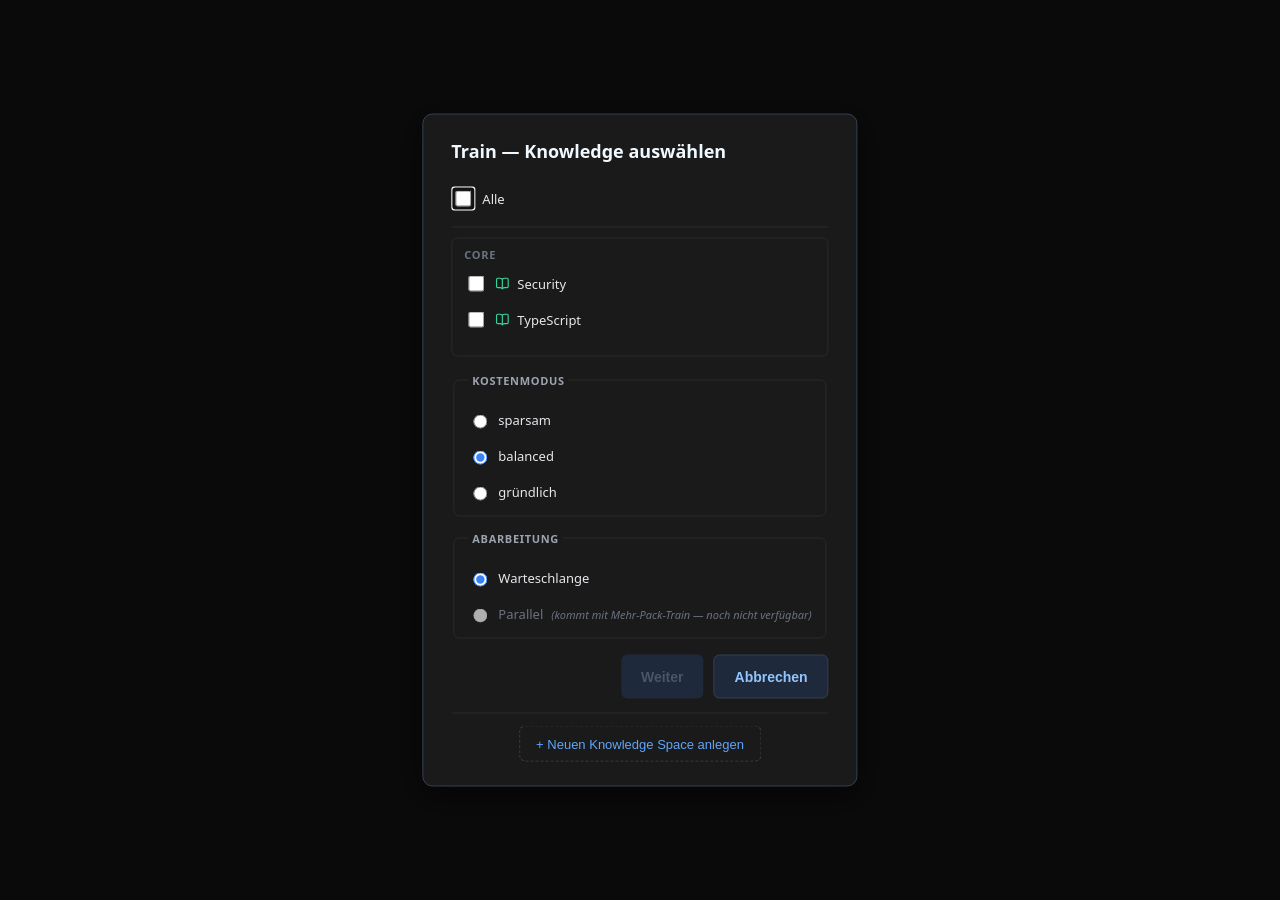
TrainDialog — AC1: „Neuen Knowledge Space anlegen" Button › Klick öffnet den Anlage-Schritt (Beschreibungsfeld erscheint)
Click the button with test id "btn-add-knowledge" at x=640, y=744, box left=519, top=726, right=761, bottom=762
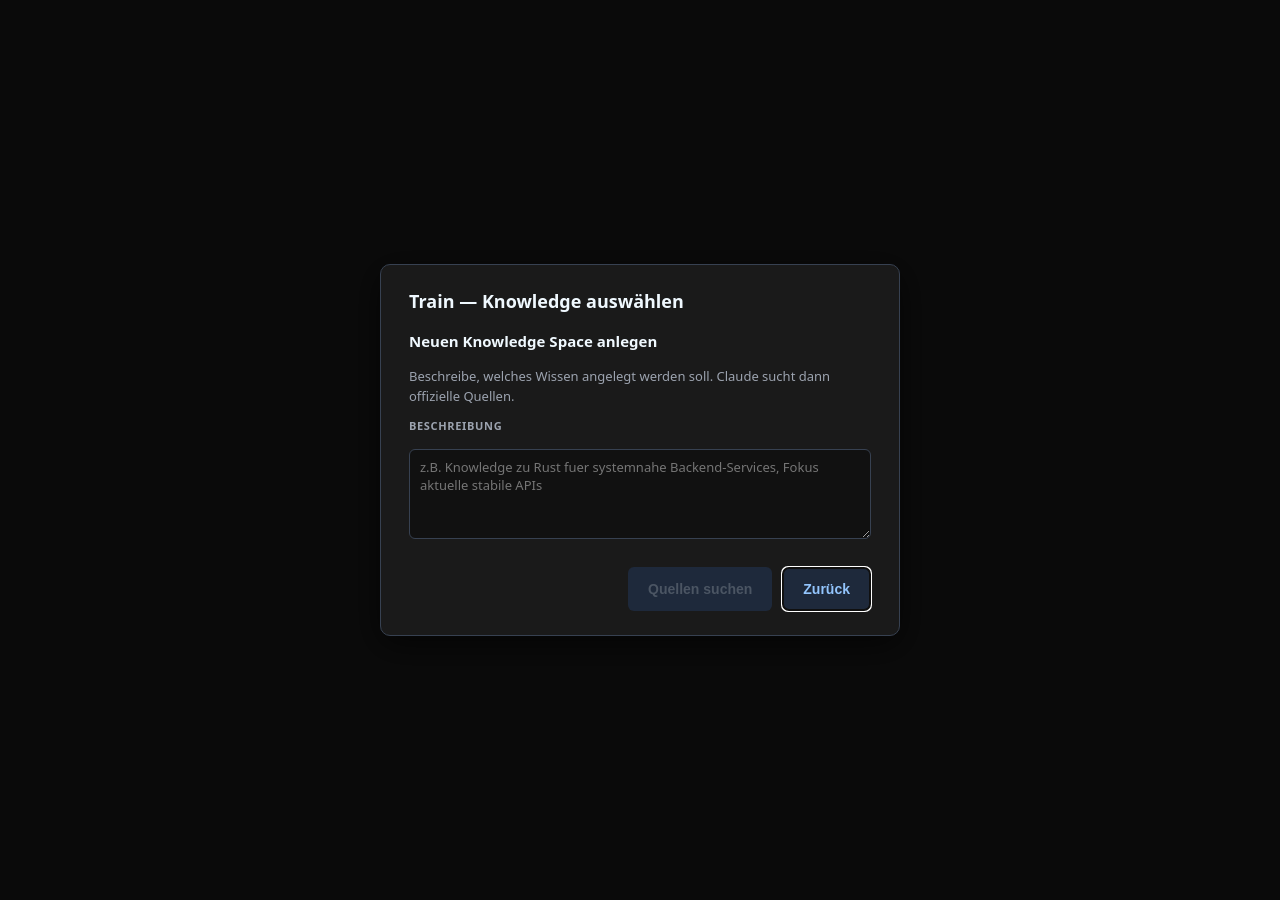
Now the text box with test id "ks-description" is shown, box left=409, top=449, right=871, bottom=539
